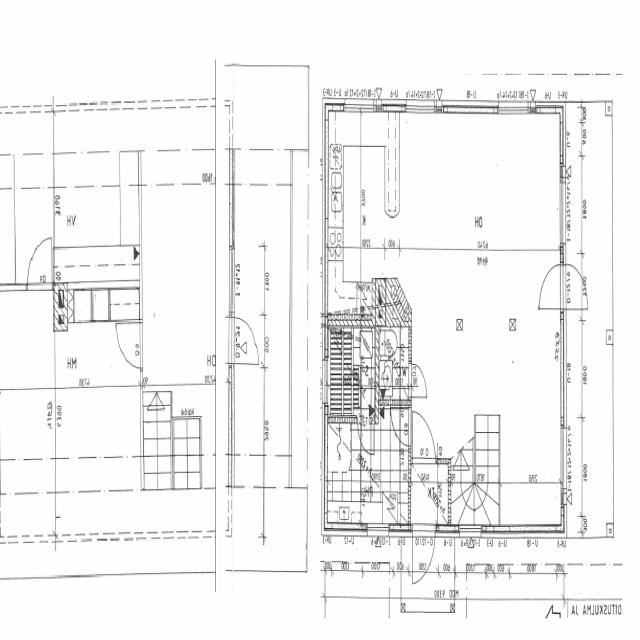door: (412, 524, 435, 586), (28, 231, 51, 289), (412, 408, 436, 462), (207, 316, 235, 362), (229, 316, 256, 362), (539, 264, 566, 309), (560, 264, 586, 309), (119, 322, 143, 367), (391, 407, 411, 445), (357, 416, 374, 460), (409, 364, 426, 396)
